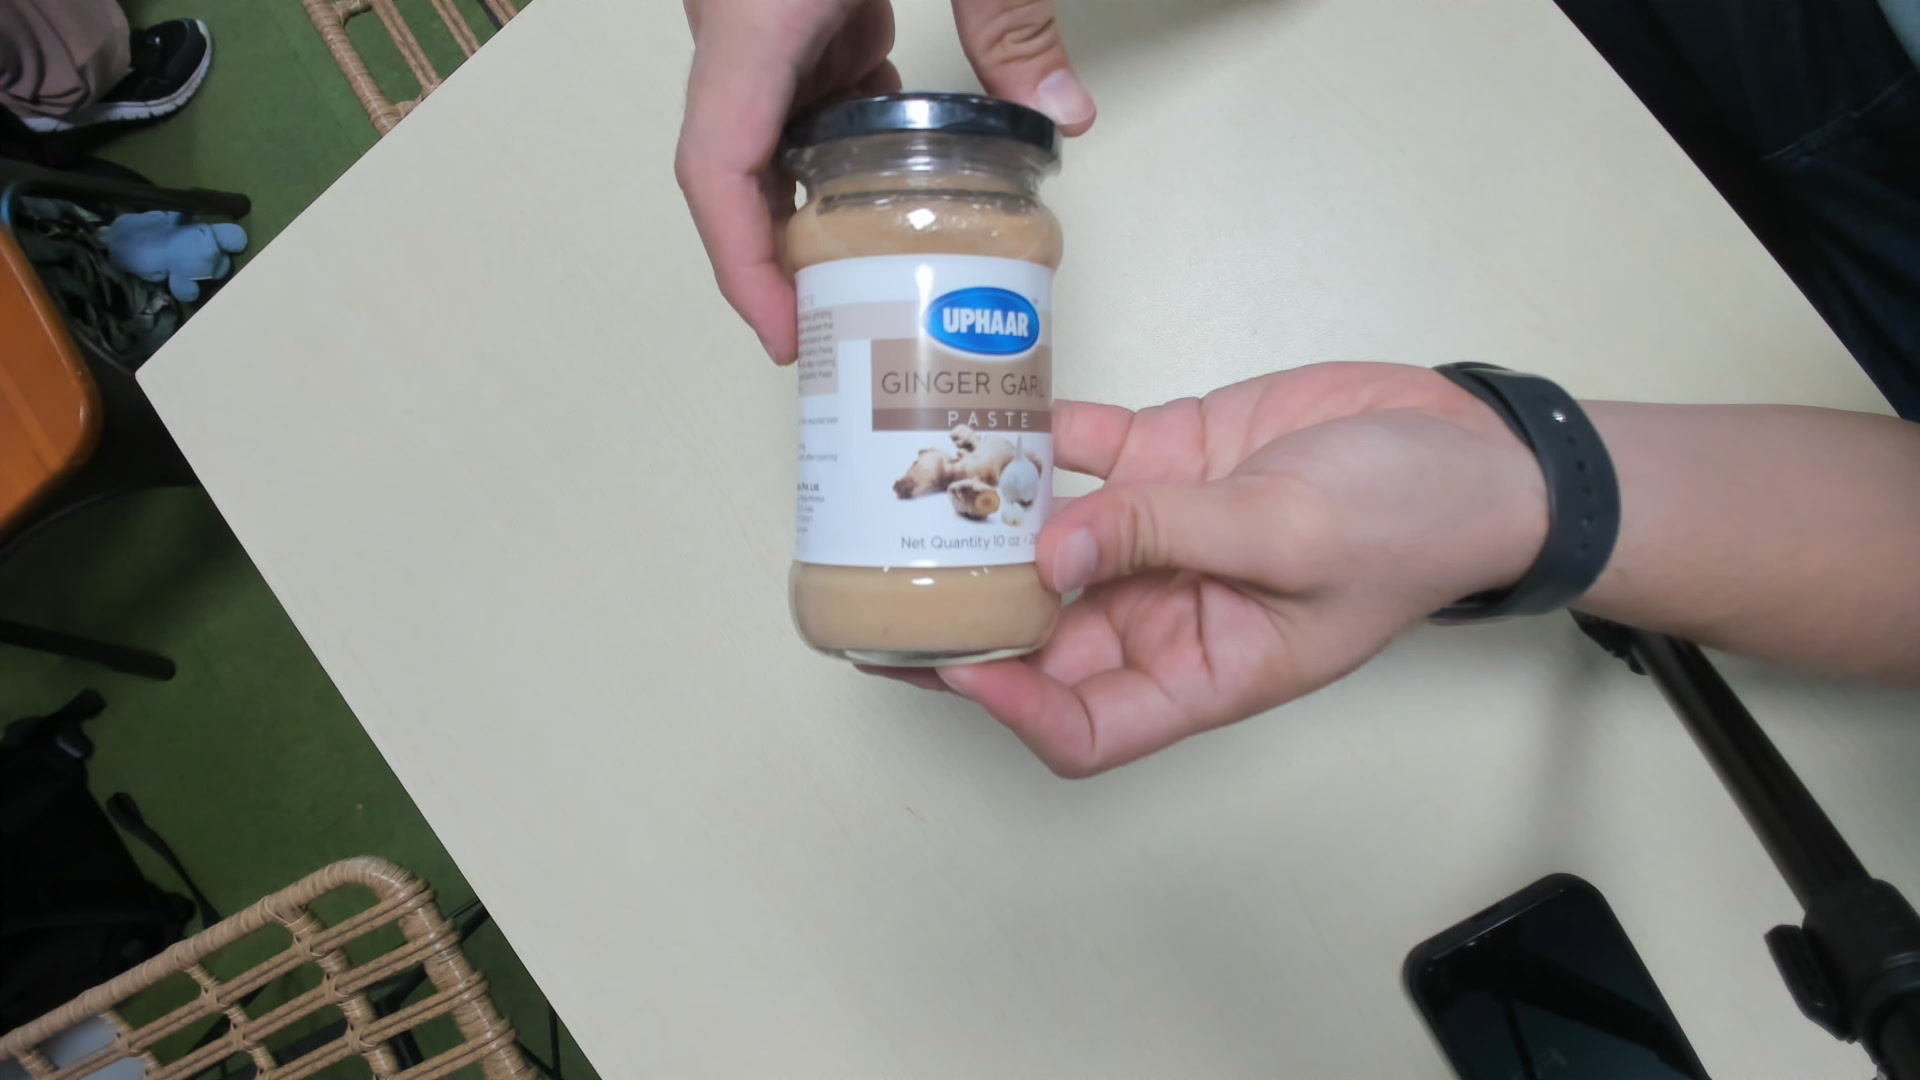OtherSauceDressing_200-299g_NonHalal_NonHealthy: (783, 95, 1069, 662)
